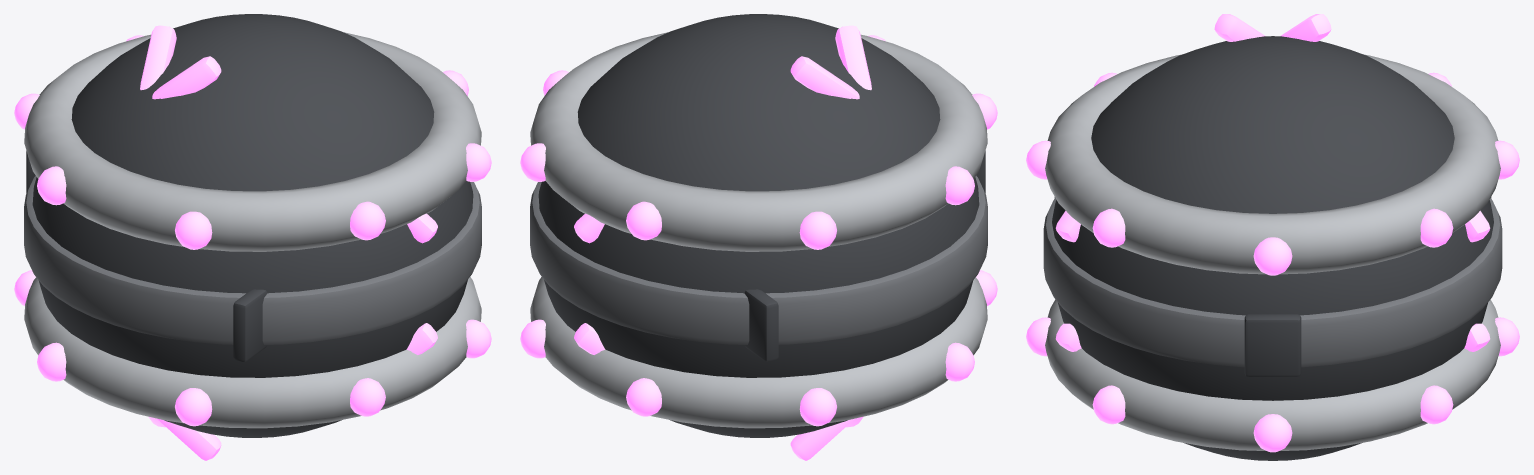
File: void_orb.glb
The picture shows the model from 3 angles, left to right: view 1: azimuth 30°, elevation 25°; view 2: azimuth 150°, elevation 25°; view 3: azimuth 270°, elevation 25°; orthographic projection.
Visible parts, largest first — view 1: Sphere, Torus.001, Cylinder, Torus, Cube.010, Cube.003, Cube, Sphere.006, Sphere.014, Sphere.007, Sphere.015, Cube.007 (+8 smaller); view 2: Sphere, Torus.001, Cylinder, Torus, Cube.009, Cube, Cube.003, Sphere.004, Sphere.012, Sphere.003, Sphere.011, Cube.004 (+7 smaller); view 3: Sphere, Torus.001, Cylinder, Torus, Cube.008, Cube.011, Sphere.009, Sphere.001, Sphere.010, Sphere.016, Sphere.002, Sphere.008 (+10 smaller).
Boxes of the visible parts, x1,y1,x2,y2 form: Sphere: [32, 14, 473, 437]; Torus.001: [24, 32, 481, 251]; Cylinder: [24, 175, 481, 344]; Torus: [24, 277, 481, 428]; Cube.010: [233, 289, 267, 361]; Cube.003: [152, 56, 221, 99]; Cube: [140, 25, 176, 90]; Sphere.006: [175, 388, 212, 426]; Sphere.014: [175, 211, 212, 249]; Sphere.007: [350, 378, 385, 416]; Sphere.015: [350, 201, 385, 240]; Cube.007: [157, 418, 221, 460]; Sphere: [538, 14, 979, 437]; Torus.001: [530, 32, 987, 251]; Cylinder: [530, 175, 987, 344]; Torus: [530, 277, 987, 428]; Cube.009: [744, 289, 778, 361]; Cube: [790, 56, 859, 99]; Cube.003: [835, 25, 871, 90]; Sphere.004: [799, 388, 836, 426]; Sphere.012: [799, 211, 836, 249]; Sphere.003: [626, 378, 661, 416]; Sphere.011: [626, 201, 661, 240]; Cube.004: [790, 418, 854, 460]; Sphere: [1052, 36, 1493, 460]; Torus.001: [1045, 54, 1500, 274]; Cylinder: [1043, 198, 1502, 367]; Torus: [1045, 299, 1500, 450]; Cube.008: [1244, 314, 1300, 376]; Cube.011: [1245, 314, 1301, 376]; Sphere.009: [1253, 237, 1292, 275]; Sphere.001: [1253, 414, 1292, 452]; Sphere.010: [1420, 208, 1453, 247]; Sphere.016: [1092, 208, 1125, 247]; Sphere.002: [1420, 385, 1453, 424]; Sphere.008: [1092, 385, 1125, 424].
Size of the model in its own units: 0.1216 by 0.109 by 0.1216.
